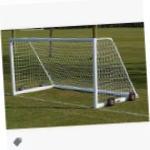goals: (7, 35, 141, 110)
